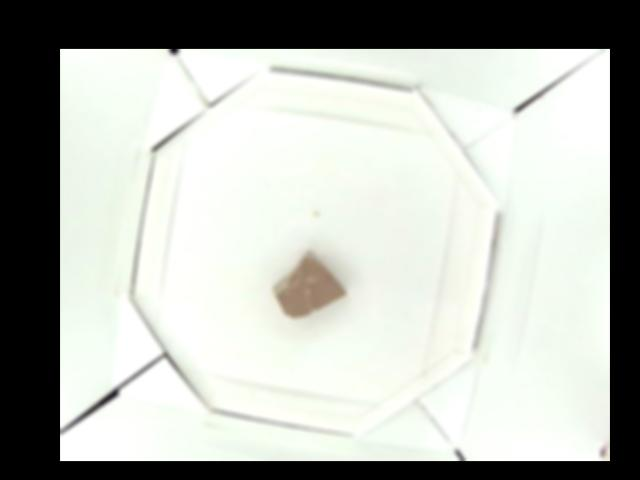China: (274, 250, 347, 318)
